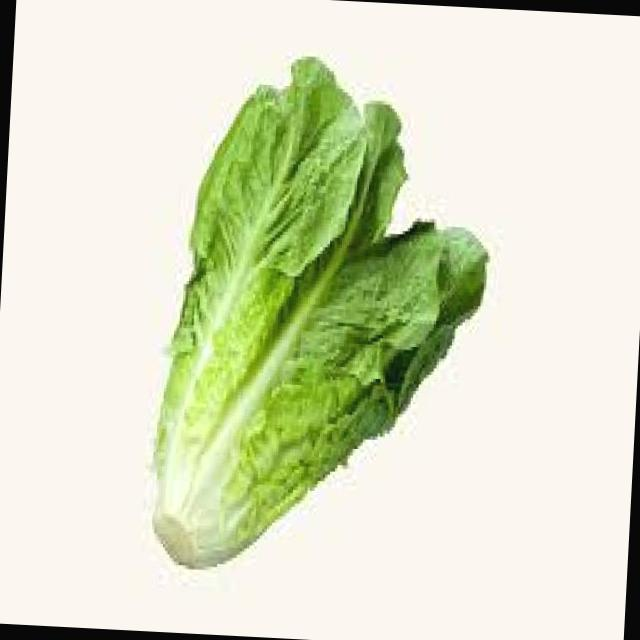Lettuce-Ready-to-Harvest: (154, 58, 486, 567)
